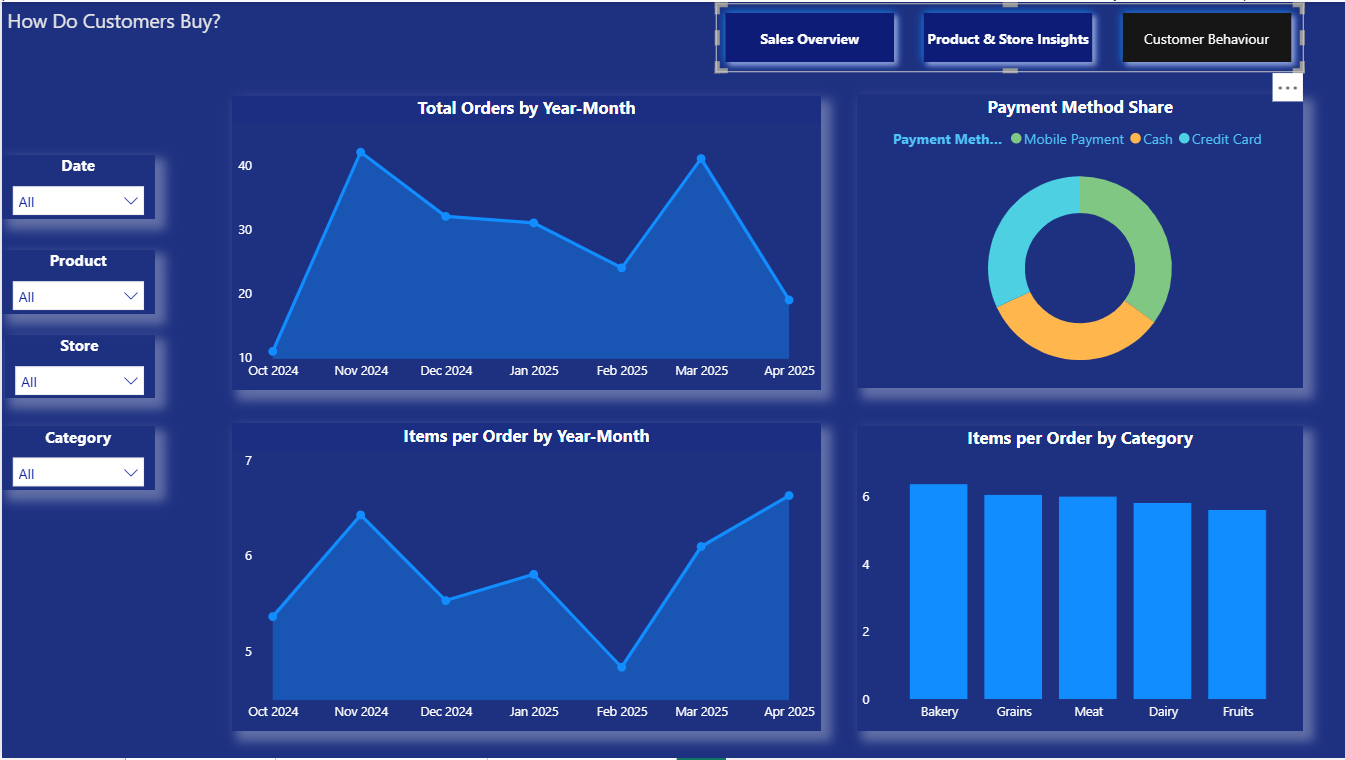

The page's visual inventory and layout, read from the dashboard file:
{"tool":"powerbi","page":{"name":"Customer Behaviour","canvas":[1280,720],"ordinal":2},"visuals":[{"type":"donutChart","title":"Payment Method Share","fields":{"Category":["Sheet1.Payment Method"],"Y":["CountNonNull(Sheet1.Payment Method)"]},"box":[814.3,88.1,425,279.8],"z":0},{"type":"areaChart","fields":{"Category":["Date Table.Year-Month"],"Y":["Sales.Items per Order"]},"box":[219,401.2,560.7,292.9],"z":1000},{"type":"areaChart","fields":{"Category":["Date Table.Year-Month"],"Y":["Sales.Total Orders"]},"box":[219,89.3,560.7,279.8],"z":2000},{"type":"clusteredColumnChart","fields":{"Category":["Sales.Category"],"Y":["Sales.Items per Order"]},"box":[814.3,403.6,425,290.5],"z":3000},{"type":"slicer","title":"Store","fields":{"Values":["Sales.Store"]},"box":[2.4,316.7,142.9,60.7],"z":4000},{"type":"slicer","title":"Product","fields":{"Values":["Sales.Product"]},"box":[0,235.7,145.2,61.9],"z":5000},{"type":"slicer","title":"Date","fields":{"Values":["Sales.Date"]},"box":[0,145.2,145.2,61.9],"z":6000},{"type":"slicer","title":"Category","fields":{"Values":["Sales.Category"]},"box":[0,403.6,145.2,61.9],"z":7000},{"type":"pageNavigator","box":[679.8,1.2,559.5,65.5],"z":8000},{"type":"textbox","box":[0,0,245.2,53.6],"z":9000}]}

Visuals, with their boxes in screenshot pixels (x1, y1, x2, y2), scaled from the page's 1280x720 canvas onto the 1345x760 screenshot:
"Payment Method Share" donutChart: region(856, 93, 1302, 388)
areaChart - Date Table.Year-Month x Sales.Items per Order: region(230, 423, 819, 733)
areaChart - Date Table.Year-Month x Sales.Total Orders: region(230, 94, 819, 390)
clusteredColumnChart - Sales.Category x Sales.Items per Order: region(856, 426, 1302, 733)
"Store" slicer: region(3, 334, 153, 398)
"Product" slicer: region(0, 249, 153, 314)
"Date" slicer: region(0, 153, 153, 219)
"Category" slicer: region(0, 426, 153, 491)
pageNavigator: region(714, 1, 1302, 70)
textbox: region(0, 0, 258, 57)
